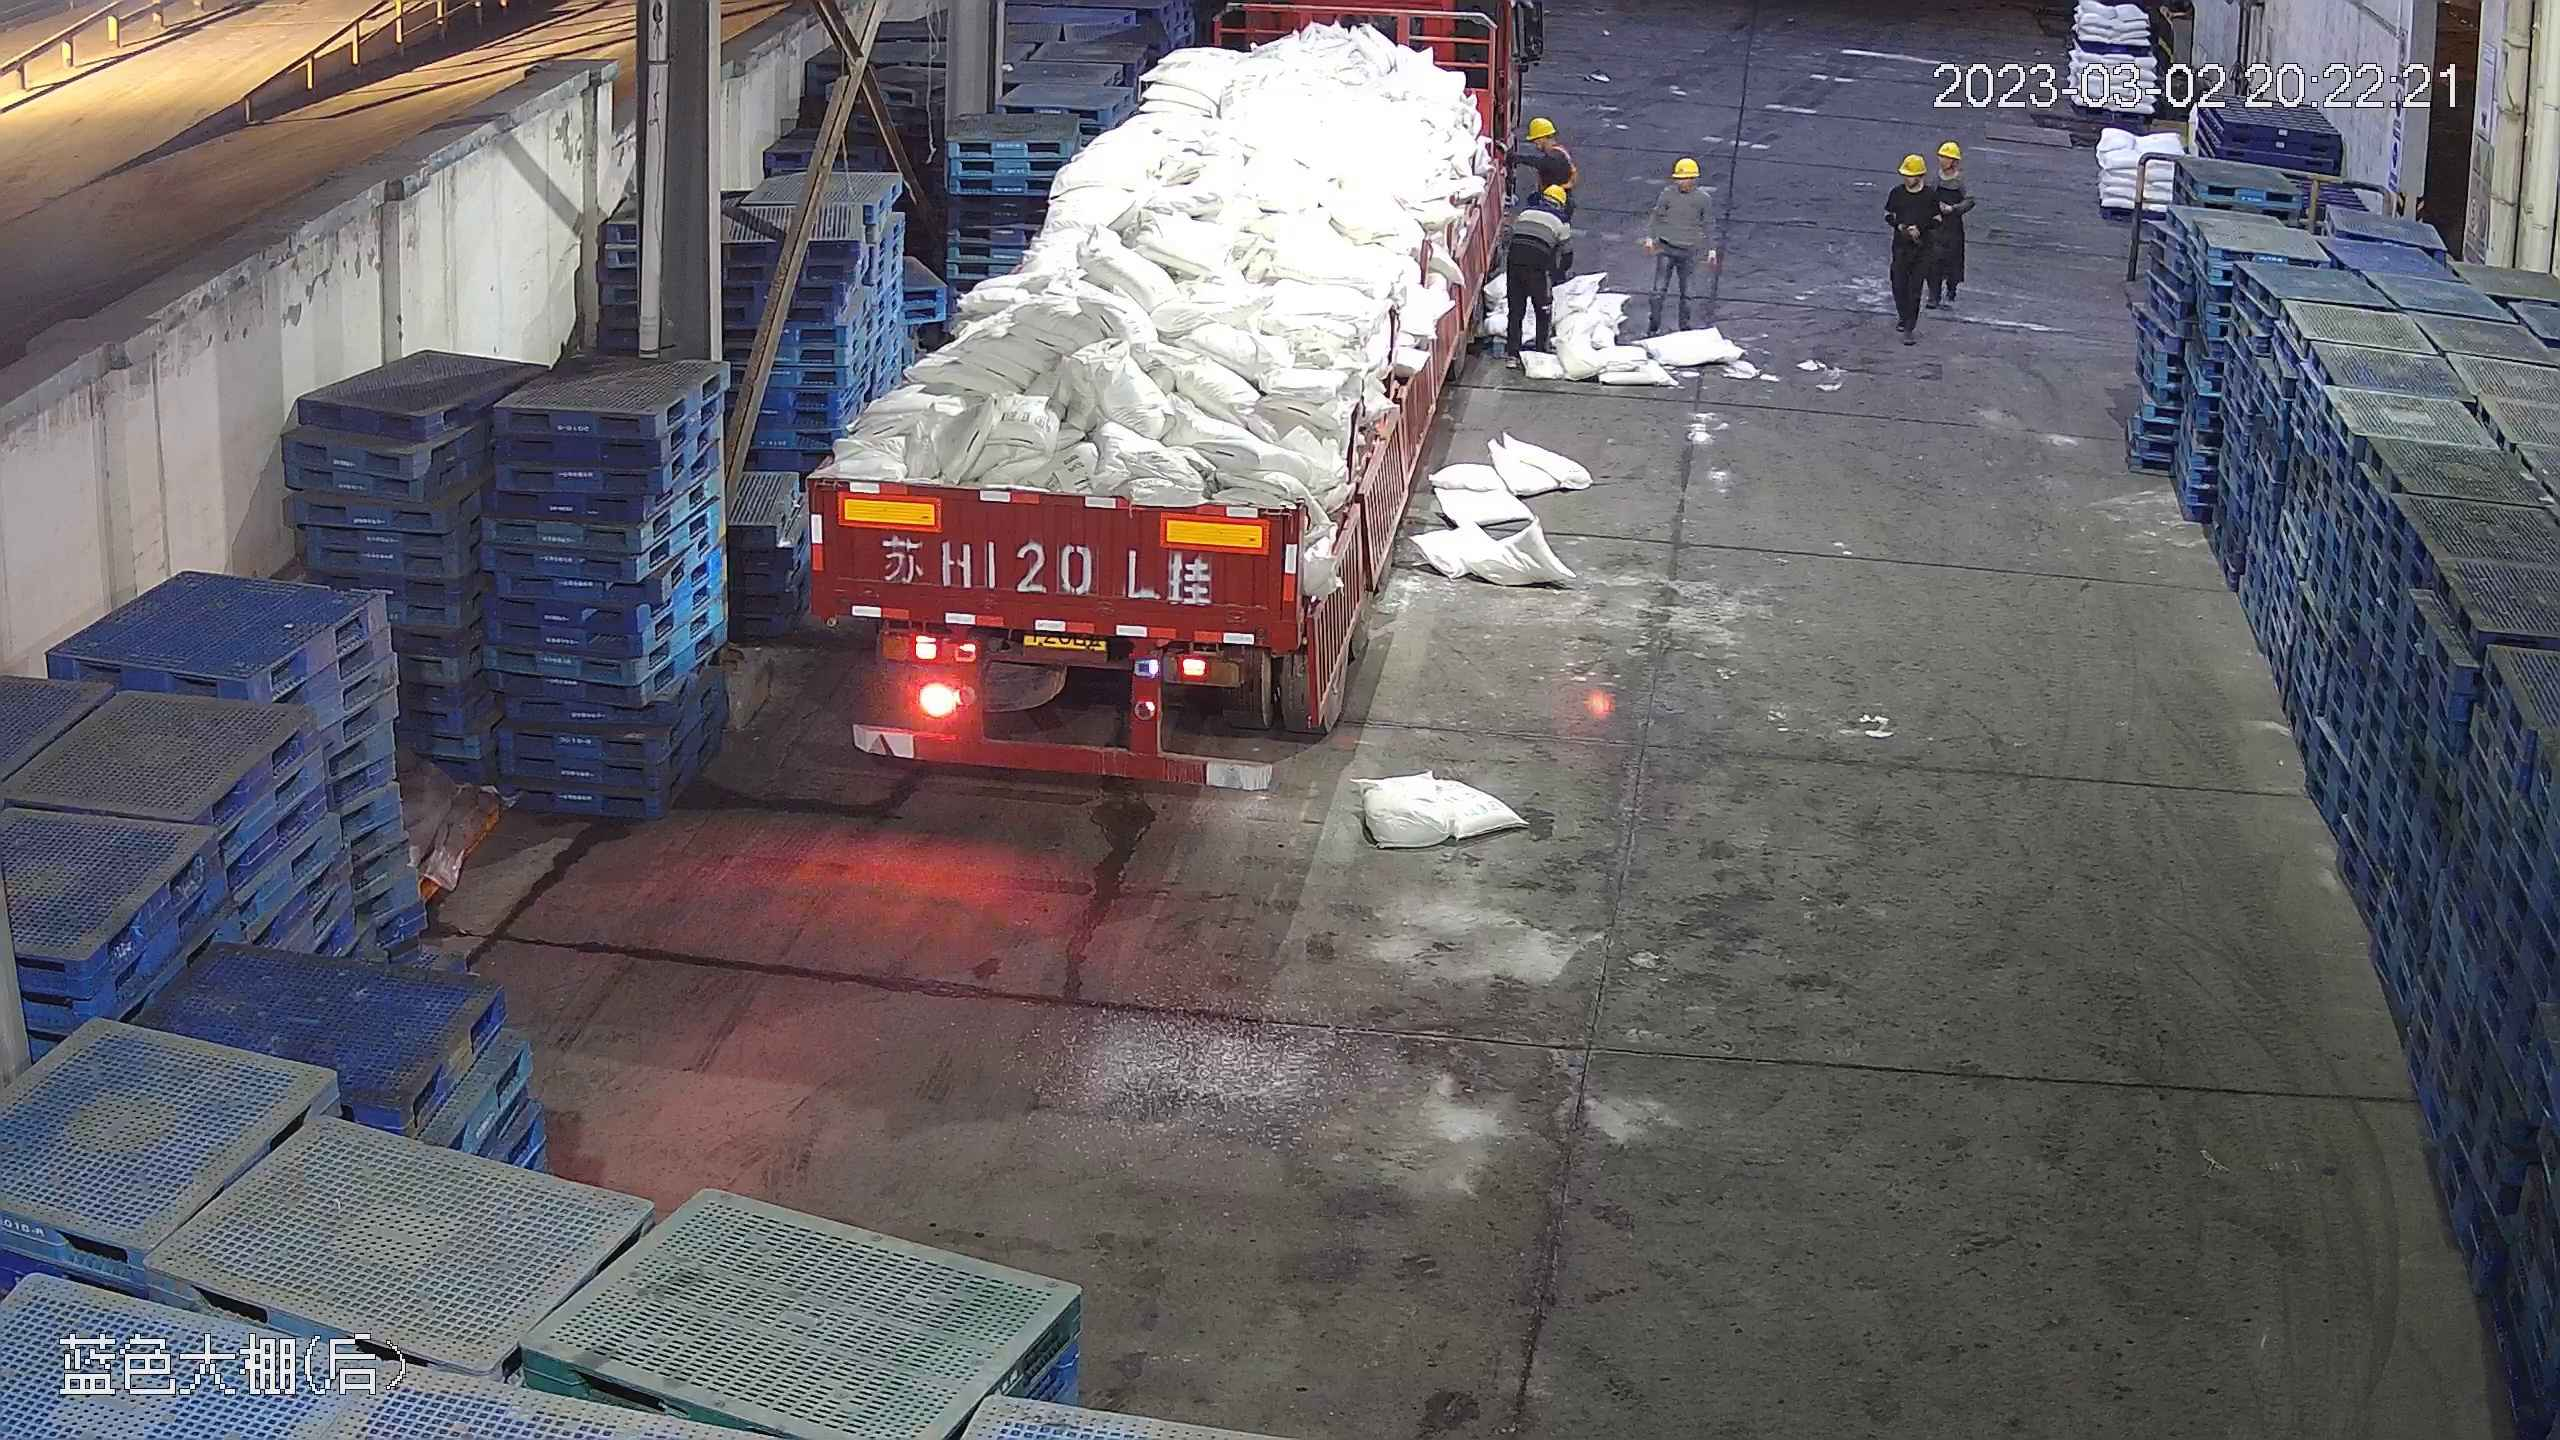belt: (1543, 143, 1579, 193)
head: (1513, 115, 1573, 179), (1654, 154, 1710, 215), (1887, 152, 1934, 209), (1522, 181, 1569, 229), (1929, 138, 1970, 190)
helmet: (1897, 152, 1928, 177), (1527, 115, 1558, 139), (1669, 154, 1700, 178), (1541, 183, 1567, 205), (1940, 138, 1965, 159)
people: (1497, 132, 1574, 362), (1641, 148, 1717, 346), (1883, 150, 1937, 336), (1923, 145, 1974, 320)
truck: (801, 4, 1525, 784)
